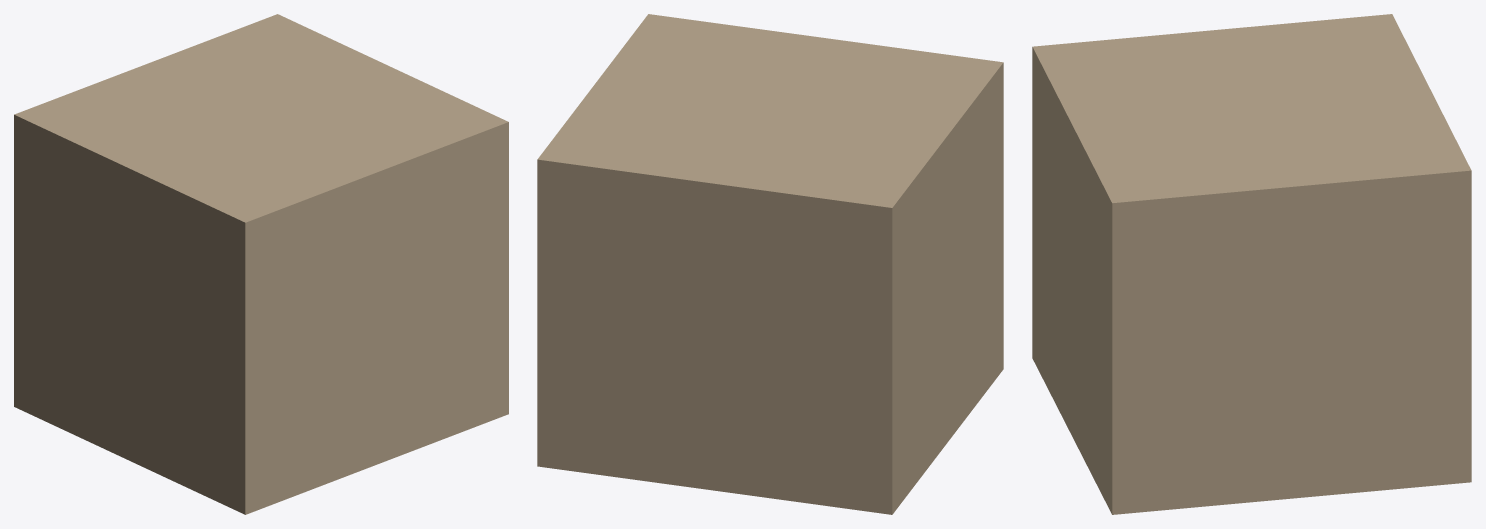
The model's file is bld_109034848.dae.
3 renders of one model, left to right at view 1: azimuth 30°, elevation 25°; view 2: azimuth 150°, elevation 25°; view 3: azimuth 270°, elevation 25°, orthographic. The views are drawn at different scales.
Parts seen in each view (by area): view 1: bld_109034848; view 2: bld_109034848; view 3: bld_109034848.
Part boxes in pixels (bbox=[...]): bld_109034848: bbox=[14, 14, 508, 514]; bld_109034848: bbox=[537, 14, 1003, 514]; bld_109034848: bbox=[1032, 14, 1471, 514].
Bounding box in the file's own units: 10.41 × 10.21 × 8.
